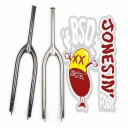Fork: (7, 2, 71, 128)
